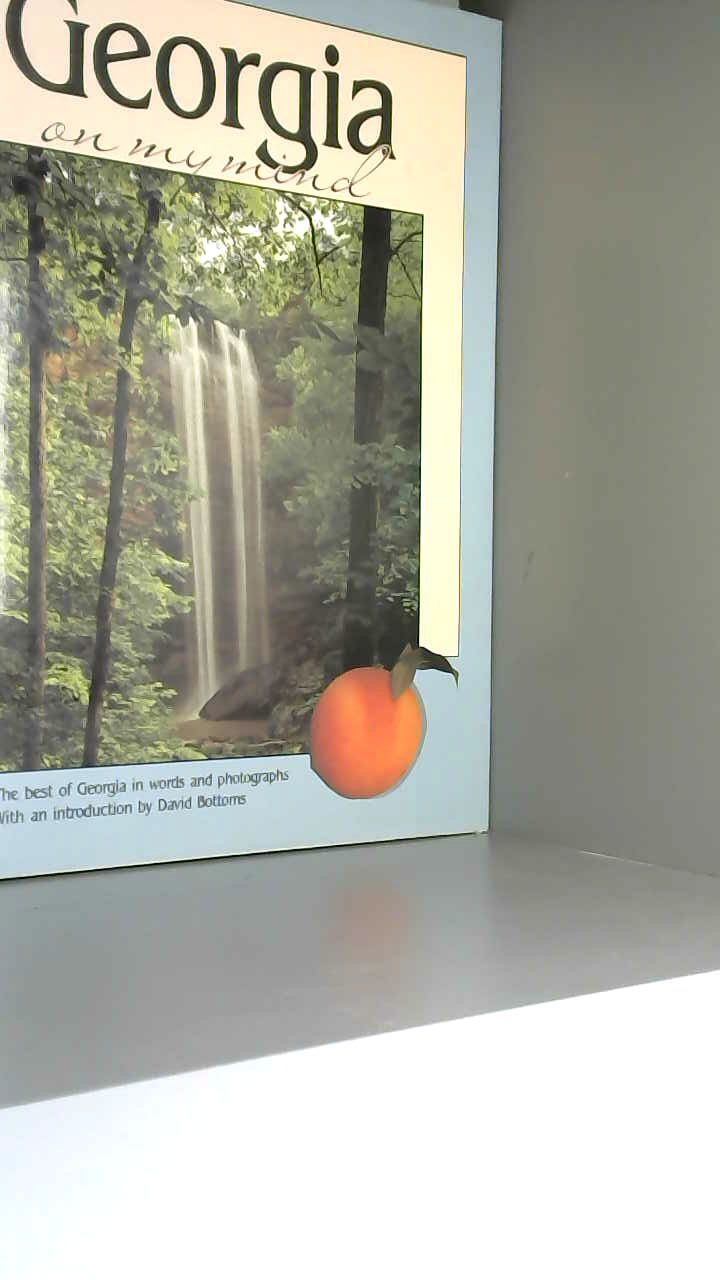book: (0, 0, 544, 903)
